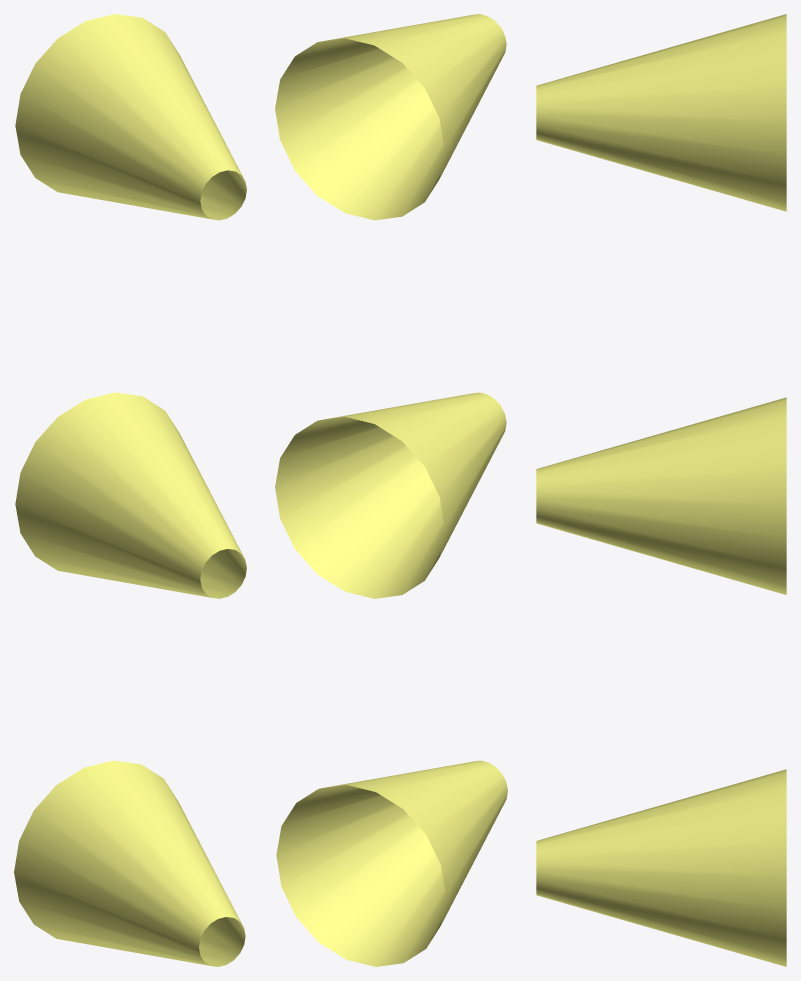
Rendered from FX_my_cafe_01_b_wall_04.fbx.
3 renders of one model, left to right at view 1: azimuth 30°, elevation 25°; view 2: azimuth 150°, elevation 25°; view 3: azimuth 270°, elevation 25°, orthographic.
Parts seen in each view (by area): view 1: light1 (2), light1 (1), light1; view 2: light1 (1), light1, light1 (2); view 3: light1, light1 (1), light1 (2).
Boxes of the visible parts, x1,y1,x2,y2 form: light1 (2): [14, 760, 245, 966]; light1 (1): [15, 392, 246, 598]; light1: [15, 14, 246, 220]; light1 (1): [275, 392, 506, 598]; light1: [275, 14, 506, 220]; light1 (2): [276, 760, 507, 966]; light1: [536, 14, 786, 211]; light1 (1): [536, 397, 786, 594]; light1 (2): [536, 769, 786, 966].
Size of the model in its own units: 0.7661 by 3.94 by 0.9576.
